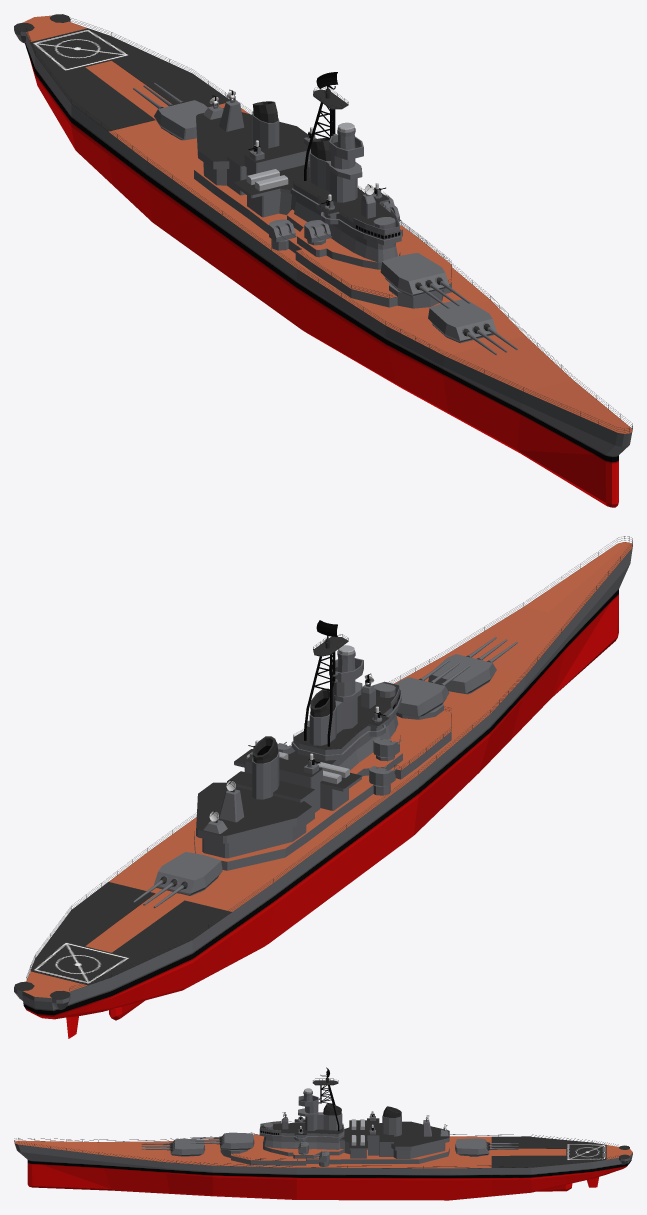
3 views of the same model, one above another, from view 1: azimuth 30°, elevation 25°; view 2: azimuth 150°, elevation 25°; view 3: azimuth 270°, elevation 25° (orthographic). The views are drawn at different scales.
Parts seen in each view (by area): view 1: Cube, Cube.005, Cube.001, Cube.010; view 2: Cube, Cube.010, Cube.001, Cube.005; view 3: Cube, Cube.010, Cube.005, Cube.001.
Part boxes in pixels (box(x1,y1,x2,y2)): Cube: box(14, 14, 632, 507); Cube.005: box(380, 253, 449, 296); Cube.001: box(428, 299, 496, 343); Cube.010: box(154, 100, 207, 140); Cube: box(14, 536, 632, 1038); Cube.010: box(154, 852, 222, 895); Cube.001: box(428, 654, 496, 694); Cube.005: box(396, 677, 449, 717); Cube: box(14, 1078, 632, 1200); Cube.010: box(455, 1138, 489, 1156); Cube.005: box(220, 1132, 254, 1150); Cube.001: box(170, 1138, 205, 1156).
Size of the model in its own units: 3295 by 5652 by 26900.
